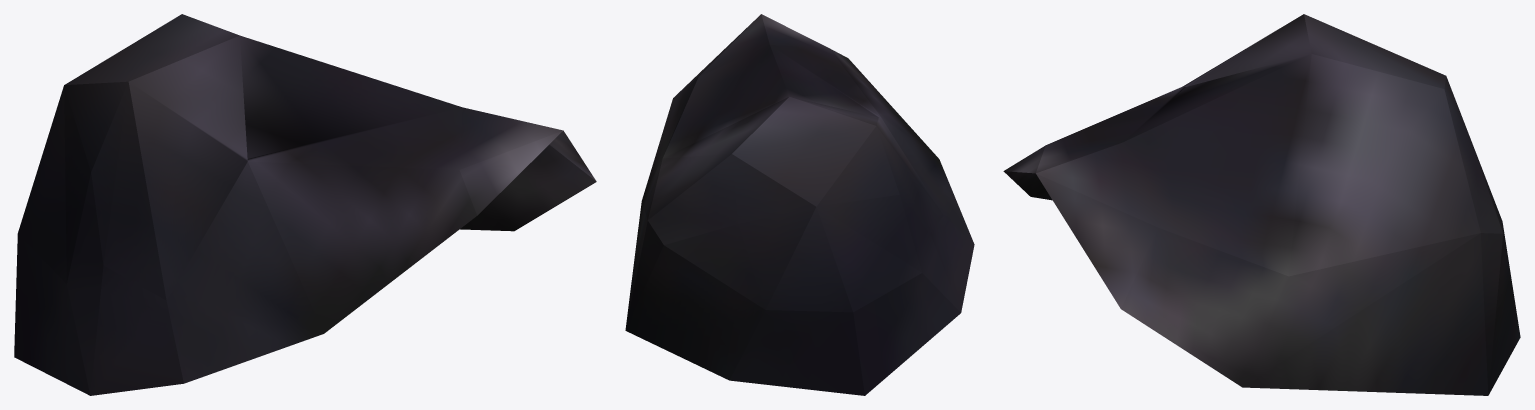
File: MapObject_148.FBX
The picture shows the model from 3 angles, left to right: view 1: azimuth 30°, elevation 25°; view 2: azimuth 150°, elevation 25°; view 3: azimuth 270°, elevation 25°; orthographic projection. The views are drawn at different scales.
Parts seen in each view (by area): view 1: polySurfaceMapGeoMesh268; view 2: polySurfaceMapGeoMesh268; view 3: polySurfaceMapGeoMesh268.
Boxes of the visible parts, x1=… form: polySurfaceMapGeoMesh268: x1=14, y1=14, x2=596, y2=395; polySurfaceMapGeoMesh268: x1=625, y1=14, x2=974, y2=395; polySurfaceMapGeoMesh268: x1=1003, y1=14, x2=1520, y2=395.
Size of the model in its own units: 46.17 by 31.92 by 47.32.
